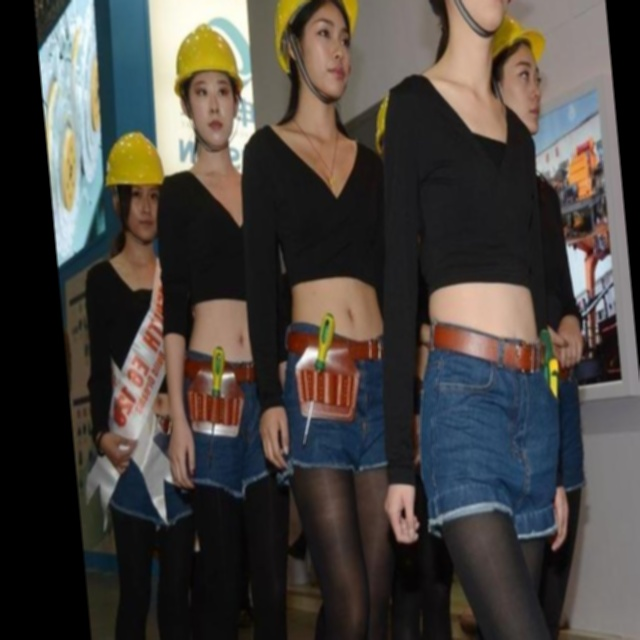Con_Casco: (166, 22, 248, 143), (273, 0, 361, 109)
Sin_Chaleco: (383, 86, 549, 340)
